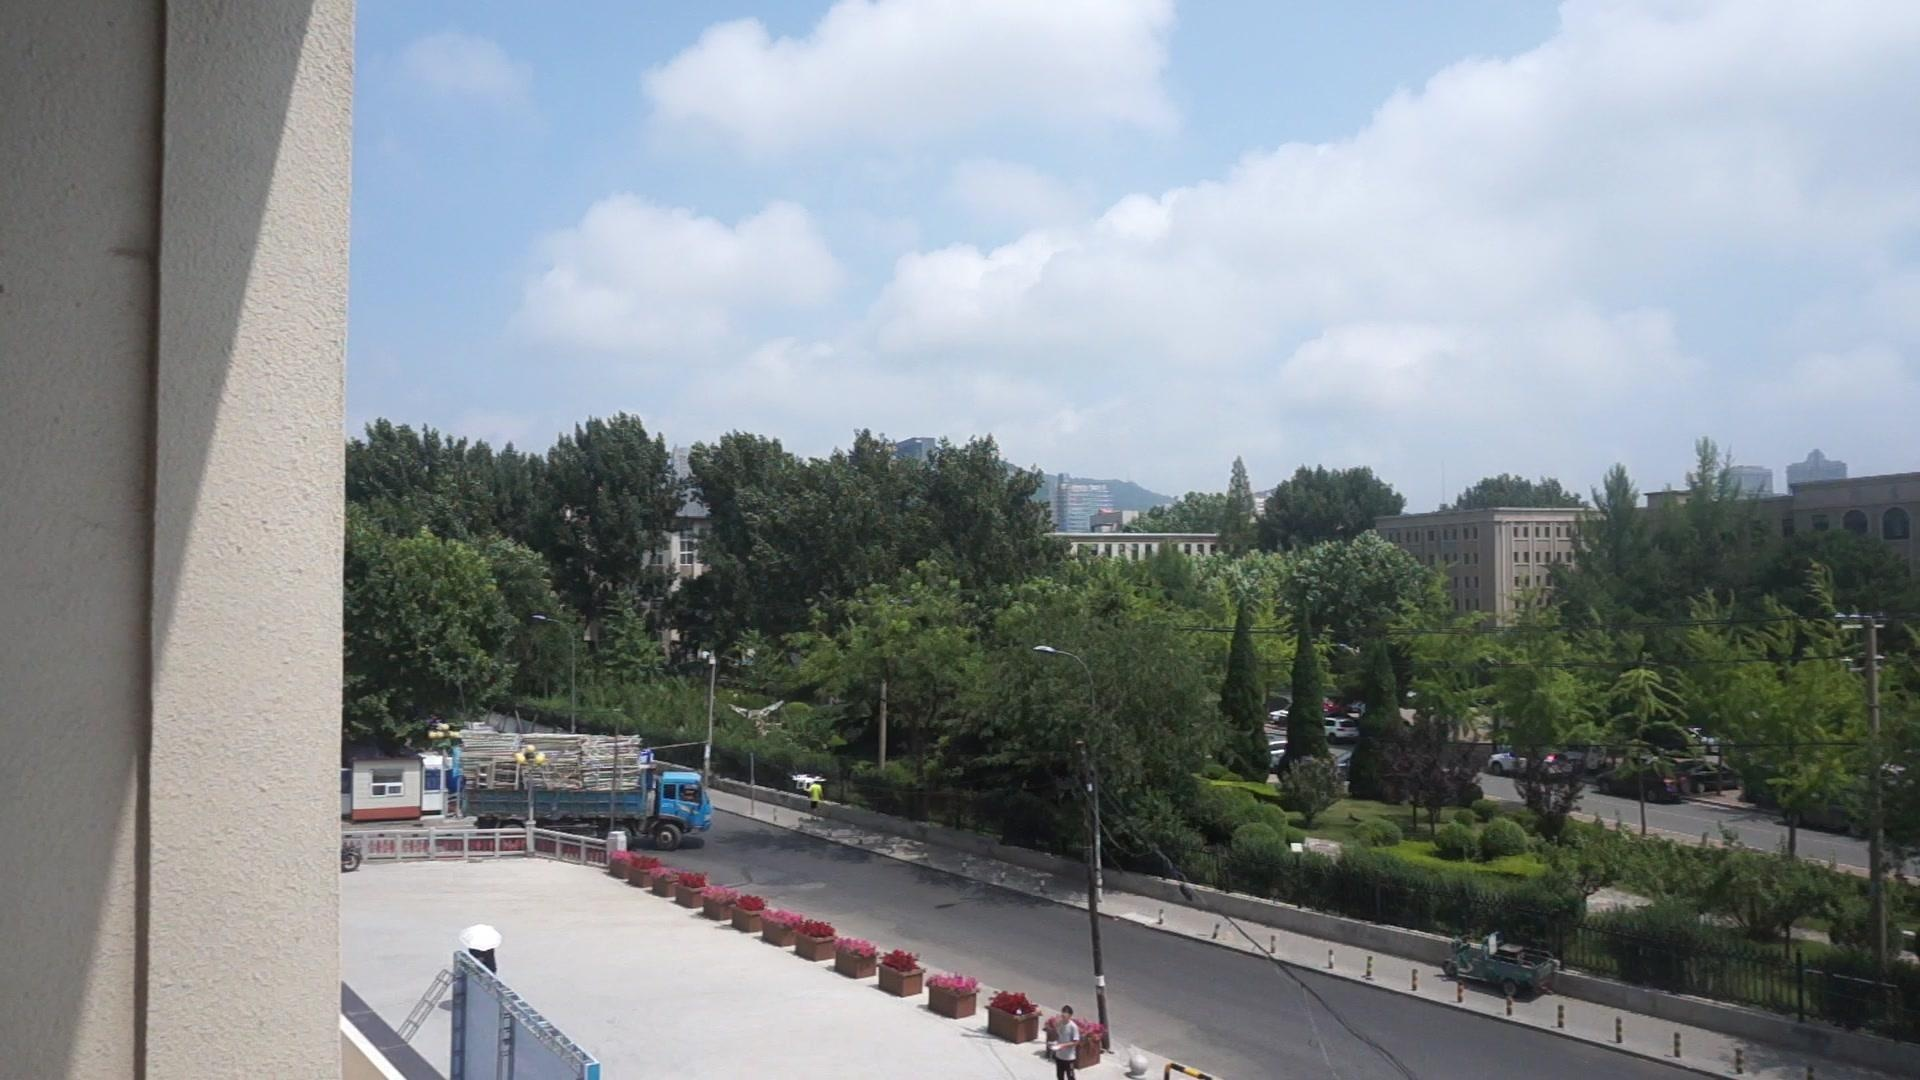UAV: (794, 775, 828, 793)
